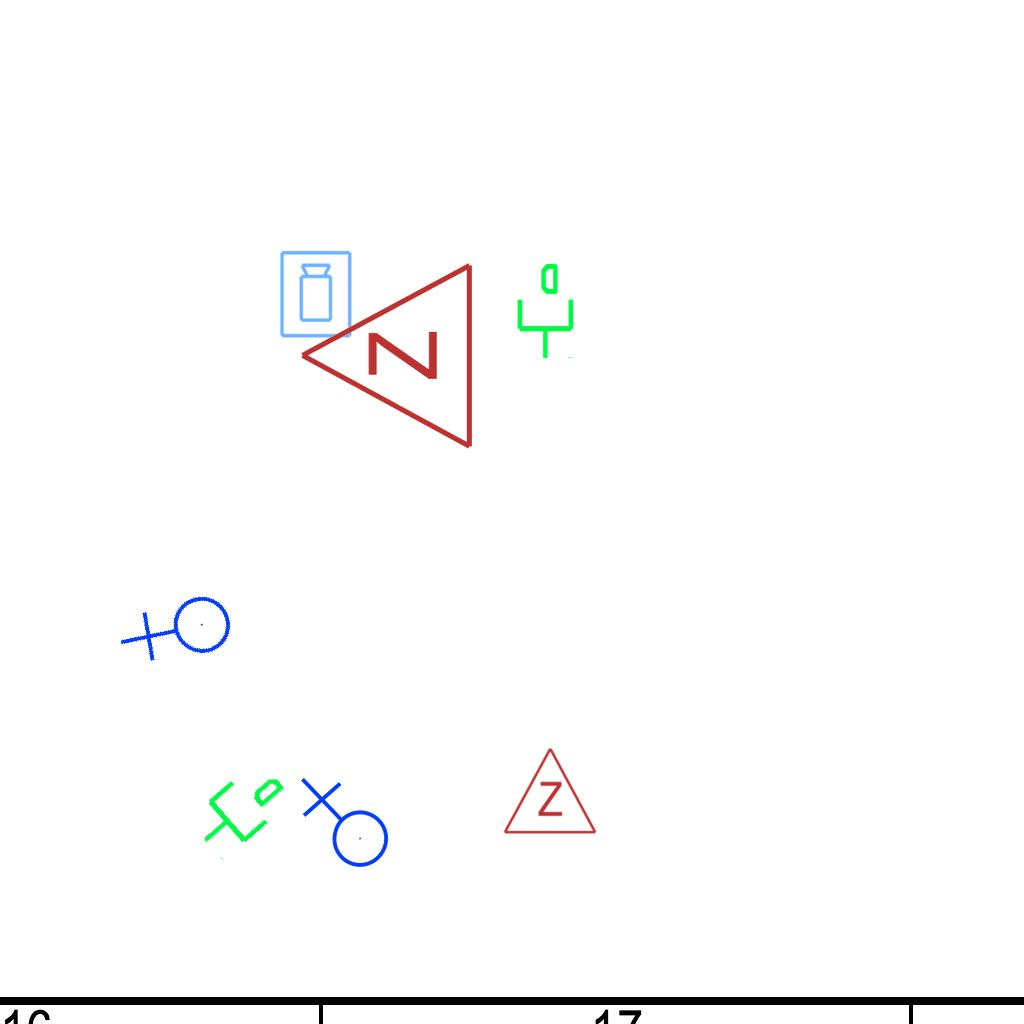Datenanschluss_einfach: (179, 749, 300, 867), (509, 261, 578, 361)
Elektroanschluss_allgemein_230V_Geraeteanschlussdose_230V: (115, 566, 250, 700), (296, 777, 390, 876)
KFO_Kamera_mit_Festobjektiv: (278, 249, 355, 340)
Zimmersignalleuchte: (287, 260, 487, 456), (500, 741, 598, 841)
